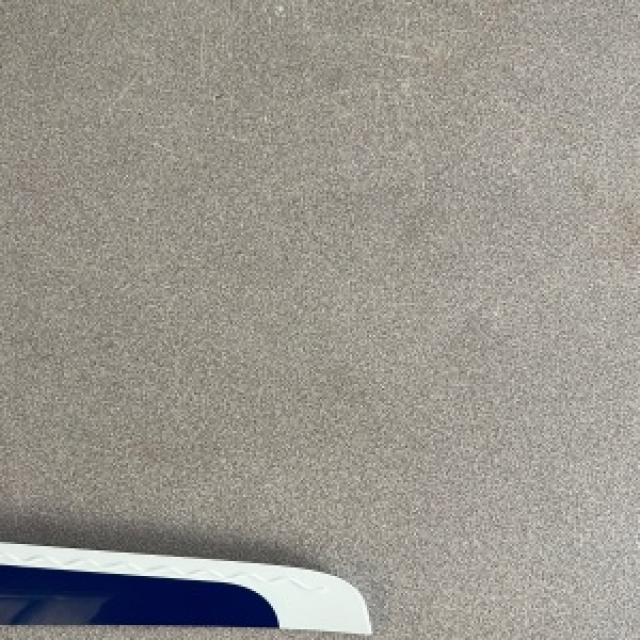healthy: (0, 542, 369, 631)
